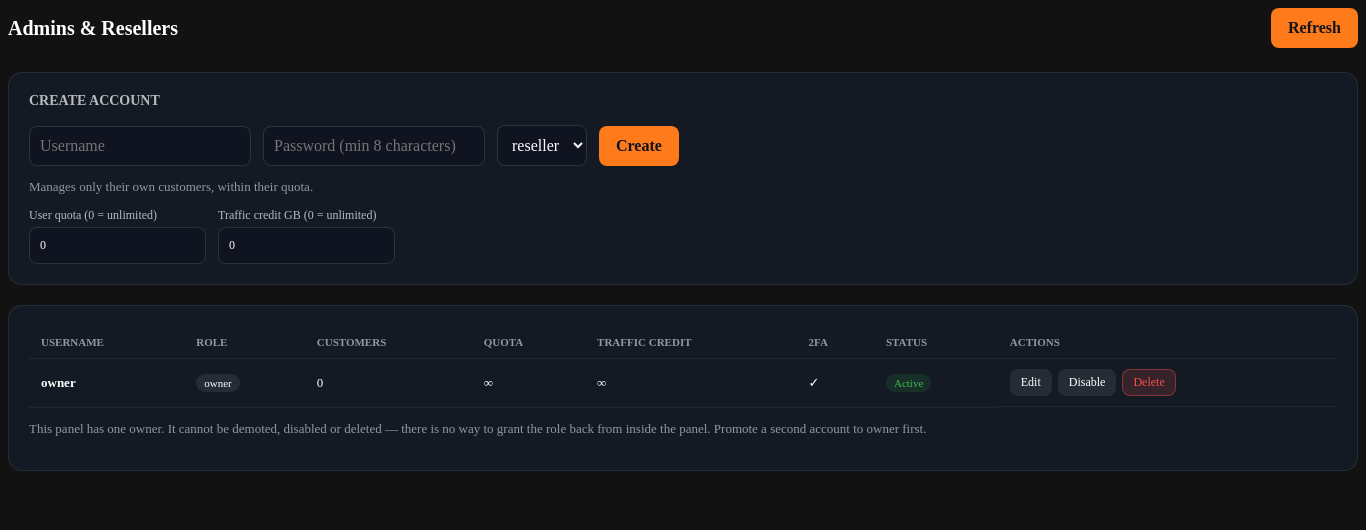
Scenario: AdminsView › refuses a short password before sending anything
Type "weak" into the field with test id "new-admin-username" at (140, 146), box [29,126,251,166]
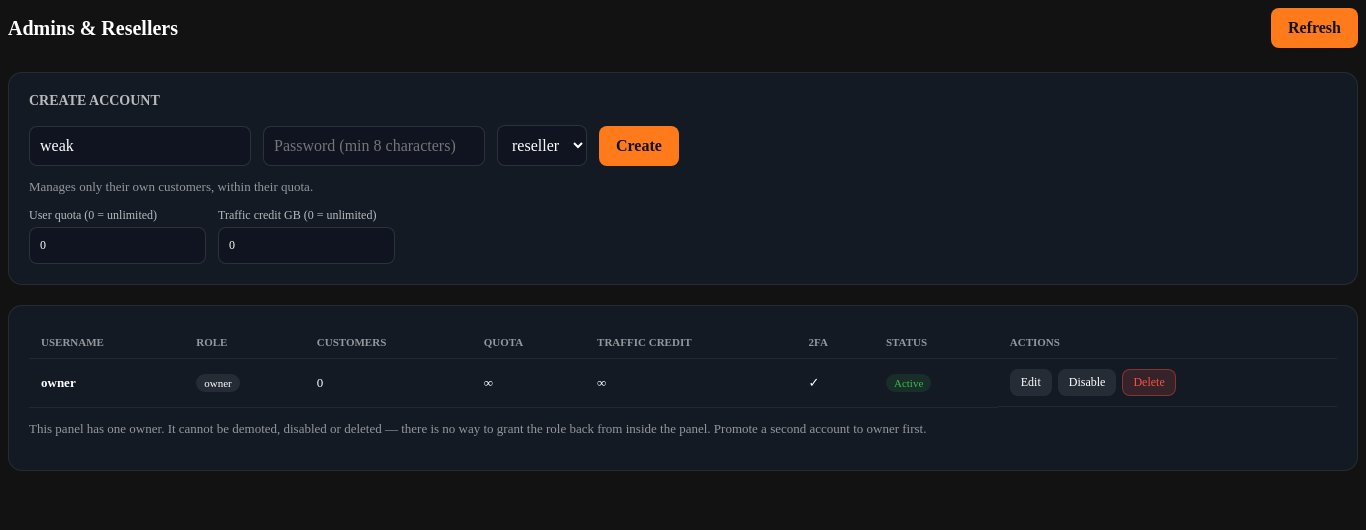
Type "short" into the password field with test id "new-admin-password" at (374, 146), box [263,126,485,166]
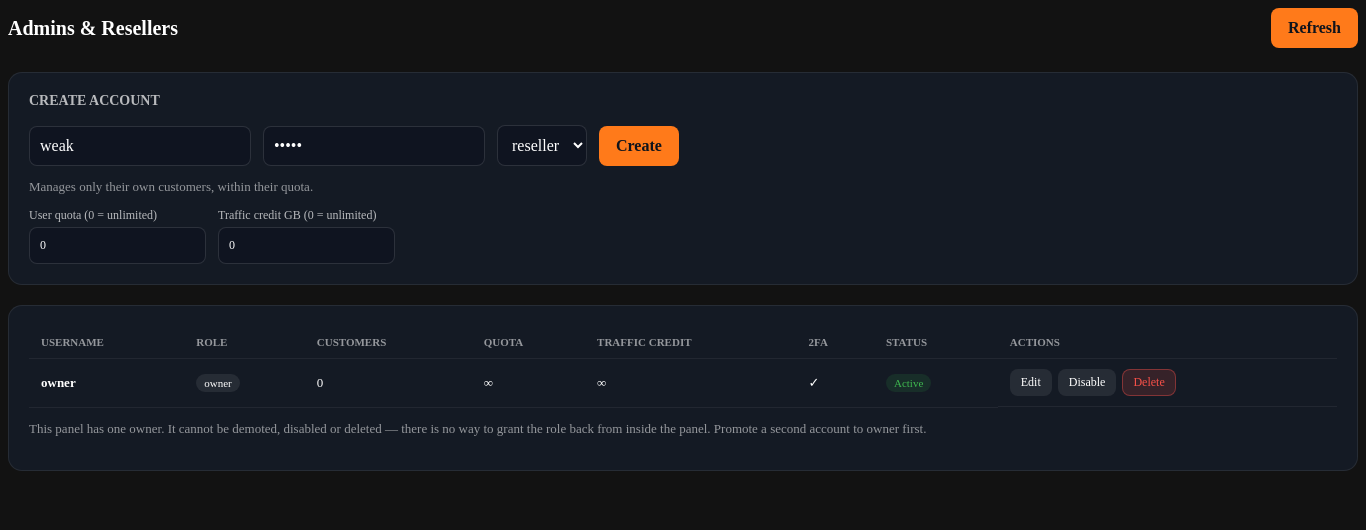
Click the button "Create" at (639, 146), box [599,126,679,166]
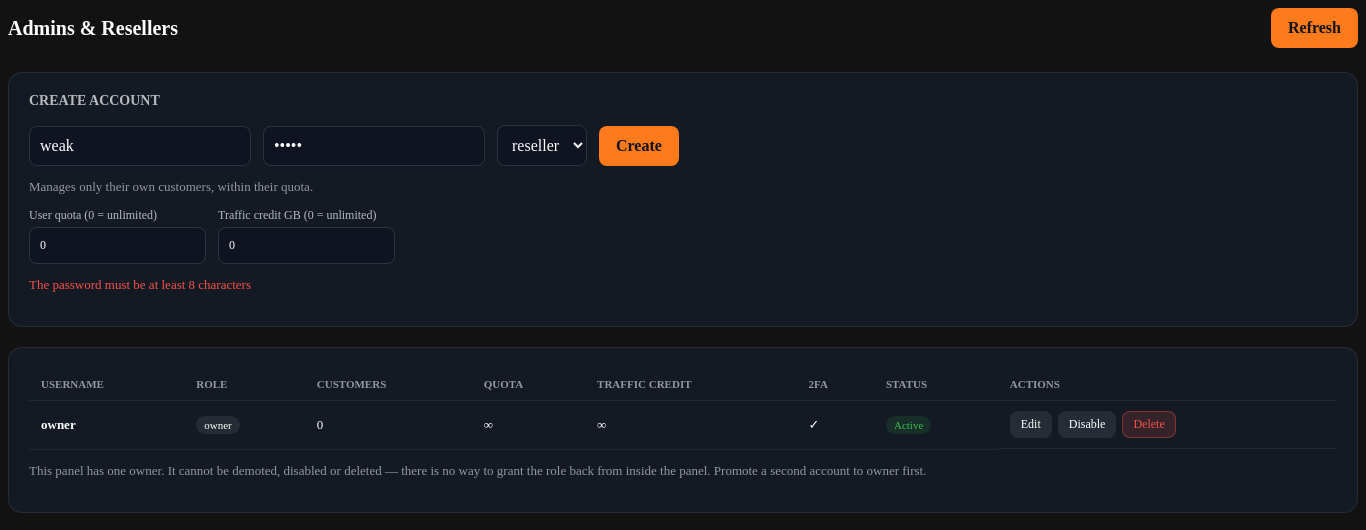
Result: the text "The password must be at least 8 characters" is shown at [29,277,251,292]
